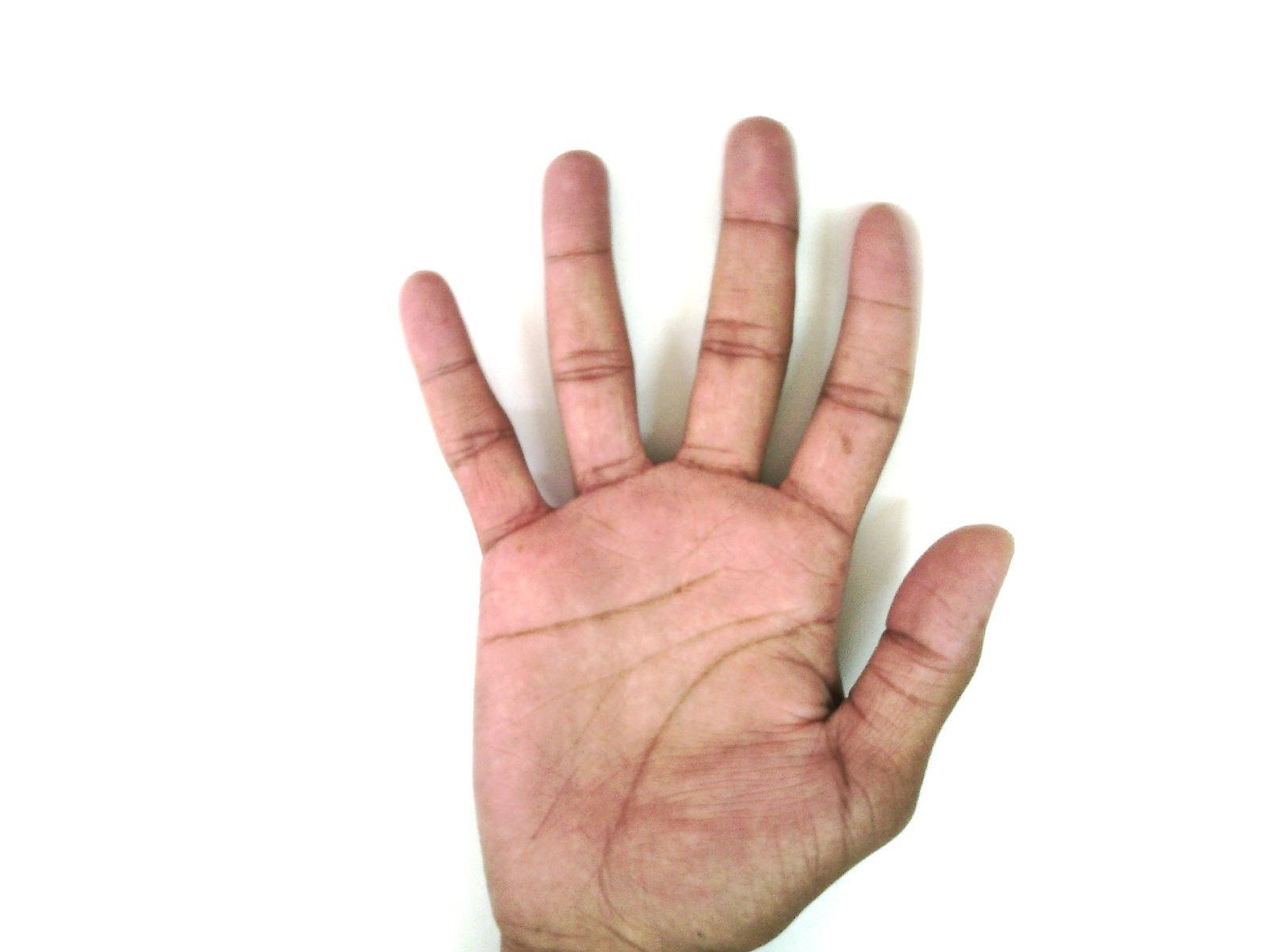open_palm: (395, 115, 1017, 951)
